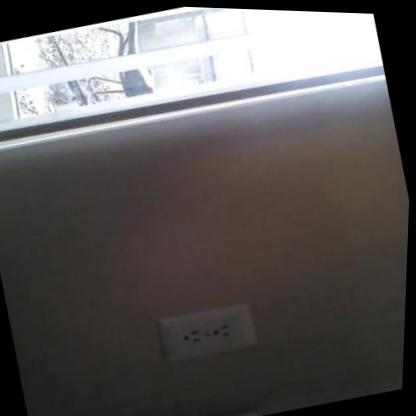OUTLET: (154, 299, 258, 367)
